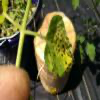Tomato Septoria leaf spot: (42, 14, 76, 85)
